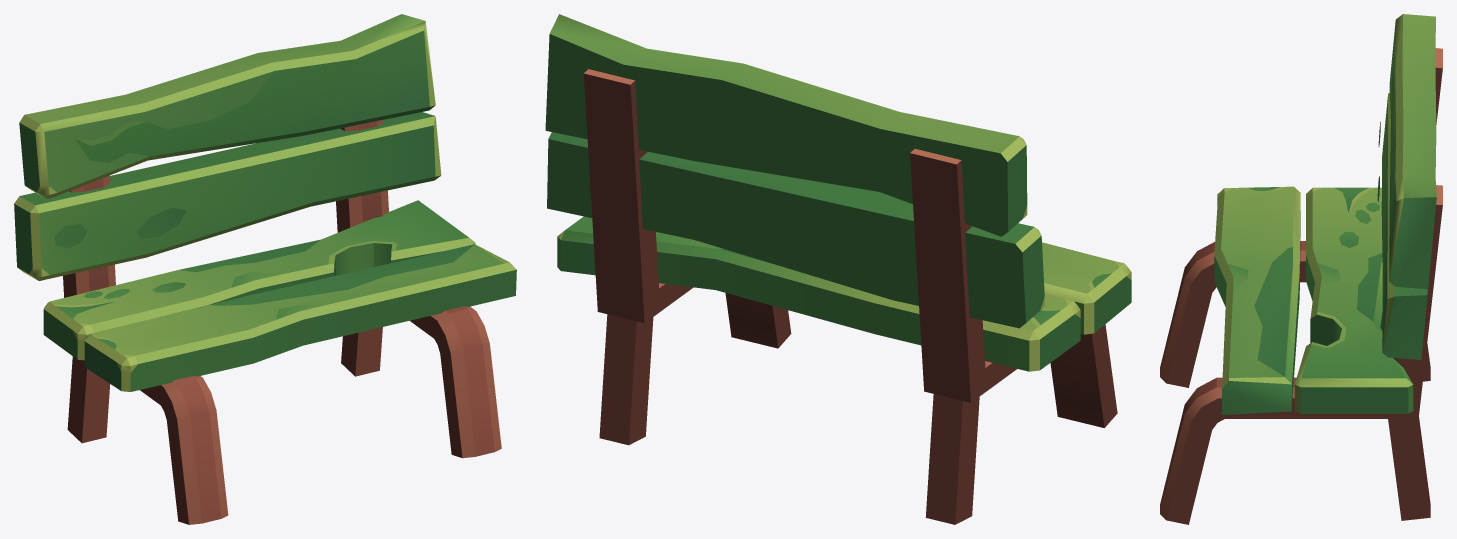
Rendered from MESH_Level1CommonDamagePropsBench1Stage1.fbx.
3 renders of one model, left to right at view 1: azimuth 30°, elevation 25°; view 2: azimuth 150°, elevation 25°; view 3: azimuth 270°, elevation 25°, orthographic. The views are drawn at different scales.
Parts seen in each view (by area): view 1: Bench1; view 2: Bench1; view 3: Bench1.
Part boxes in pixels (x1=…): Bench1: x1=14, y1=14, x2=516, y2=524; Bench1: x1=545, y1=14, x2=1131, y2=524; Bench1: x1=1160, y1=14, x2=1442, y2=524.
Size of the model in its own units: 244 by 195 by 144.
